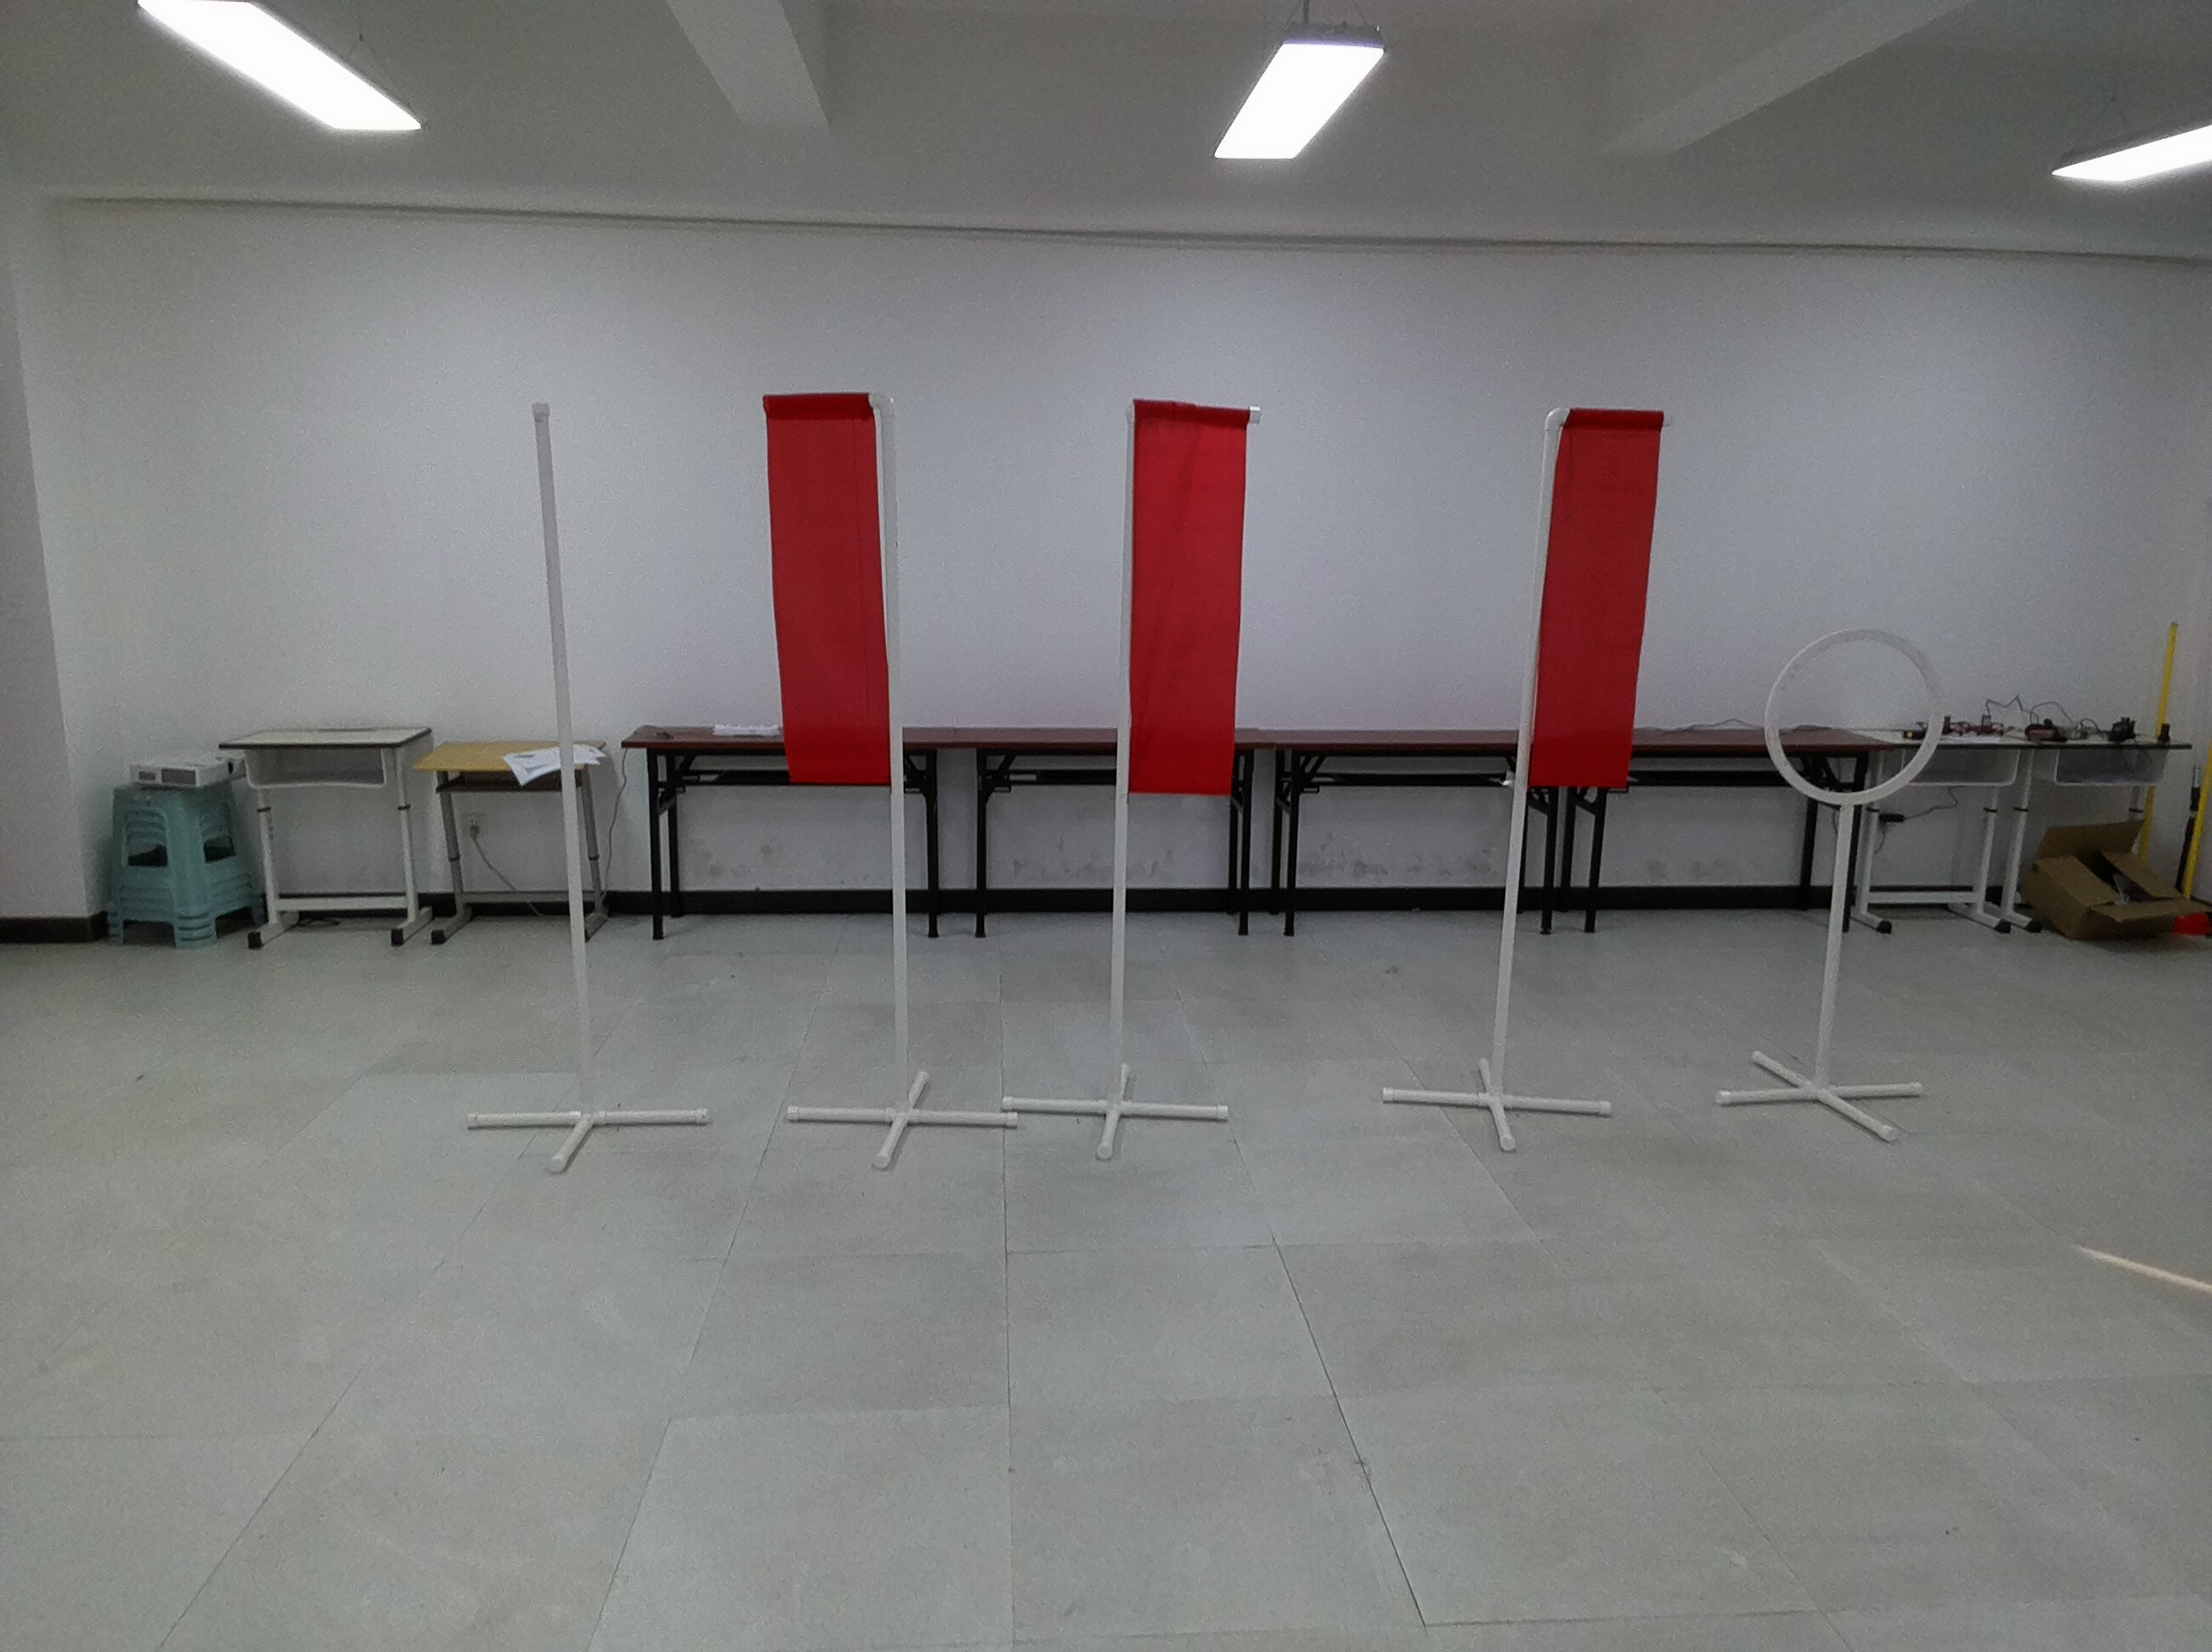gan: (515, 387, 611, 1043)
qi: (748, 385, 923, 817), (1499, 385, 1666, 835), (1105, 392, 1266, 826)
quan: (1744, 619, 1947, 826)
